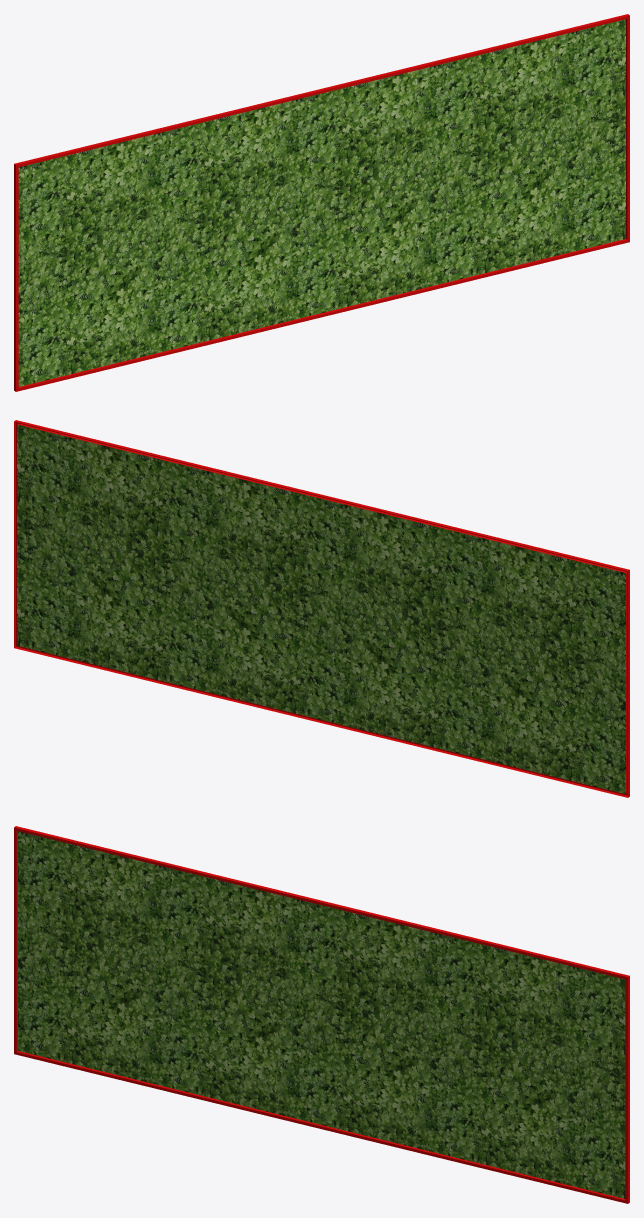
File: ScreenC.fbx
3 views of the same model, one above another, from view 1: azimuth 30°, elevation 25°; view 2: azimuth 150°, elevation 25°; view 3: azimuth 330°, elevation 25° (orthographic).
Visible parts, largest first — view 1: ScreenC; view 2: ScreenC; view 3: ScreenC.
Boxes of the visible parts, x1=… form: ScreenC: x1=14, y1=14, x2=629, y2=391; ScreenC: x1=14, y1=420, x2=629, y2=797; ScreenC: x1=14, y1=826, x2=629, y2=1203.
Bounding box in the file's own units: 1231 × 434 × 7.04.
